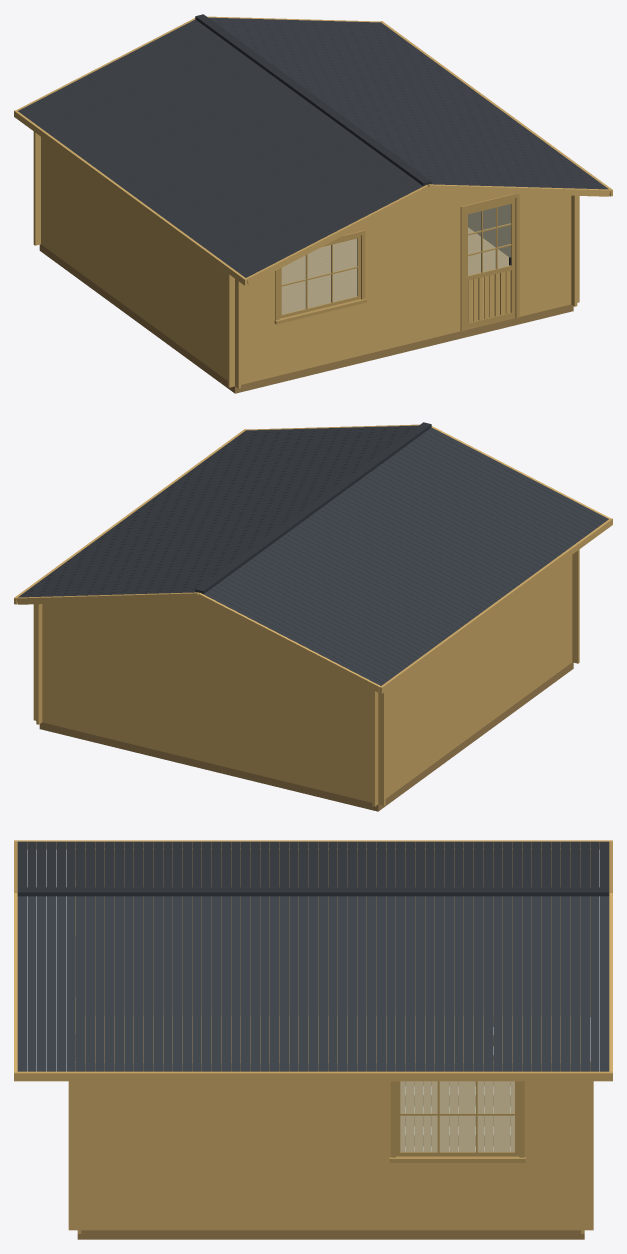
Rendered from диогу_6_6_44_мм.glb.
The picture shows the model from 3 angles, top to bottom: view 1: azimuth 30°, elevation 25°; view 2: azimuth 150°, elevation 25°; view 3: azimuth 270°, elevation 25°; orthographic projection. The views are drawn at different scales.
Visible parts, largest first — view 1: roof, walls, floor, house, object 6, object 27, object 33, object 34, object 15; view 2: roof, walls, house; view 3: roof, walls, floor, object 40, house, object 47, object 39.
Boxes of the visible parts, box(x1,y1,x2,y2) form: roof: box(14, 14, 612, 285); walls: box(33, 131, 579, 388); floor: box(281, 227, 508, 320); house: box(39, 244, 573, 393); object 6: box(282, 239, 357, 314); object 27: box(468, 204, 510, 275); object 33: box(460, 206, 464, 331); object 34: box(515, 194, 519, 318); object 15: box(510, 198, 514, 317); roof: box(14, 422, 612, 693); walls: box(33, 549, 579, 806); house: box(39, 662, 573, 811); roof: box(14, 840, 612, 1081); walls: box(68, 848, 593, 1233); floor: box(85, 1015, 580, 1151); object 40: box(400, 1081, 514, 1151); house: box(77, 1017, 584, 1239); object 47: box(389, 1157, 525, 1162); object 39: box(396, 1151, 519, 1156).
Size of the model in its own units: 6.25 by 3.04 by 6.79.
